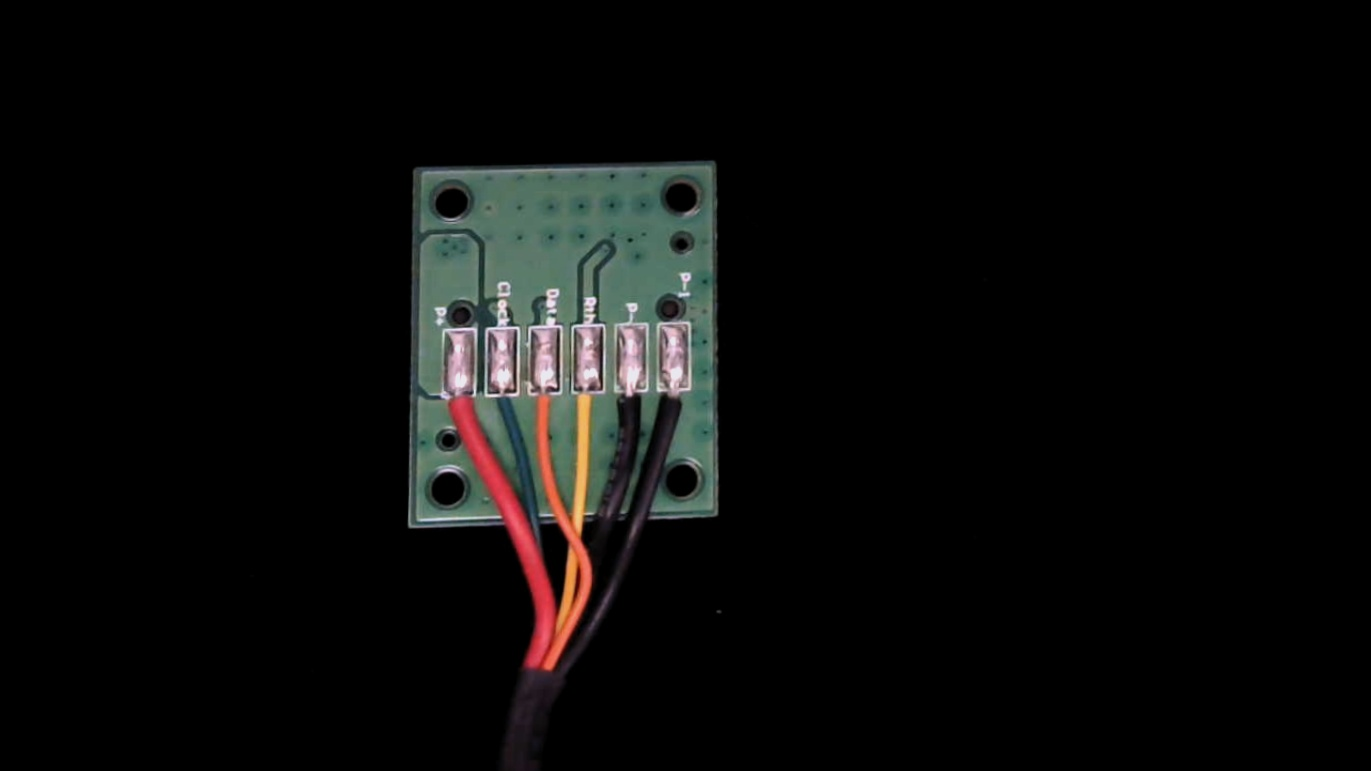Black: (611, 376, 651, 456)
Black1: (658, 369, 697, 443)
Green: (482, 376, 523, 448)
Orange: (525, 378, 564, 456)
Red: (439, 379, 480, 455)
Yellow: (570, 373, 610, 454)
